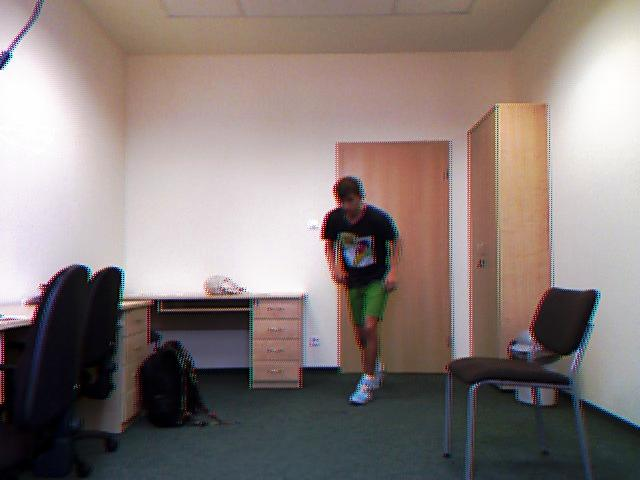walking: (309, 167, 414, 417)
